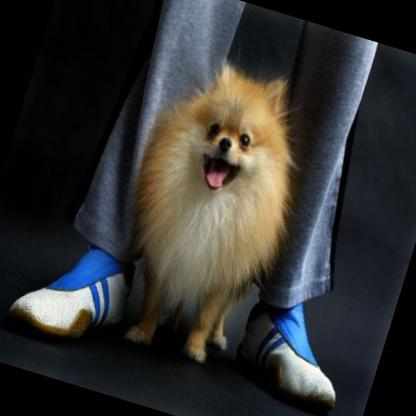Pomeranian: (89, 42, 326, 372)
